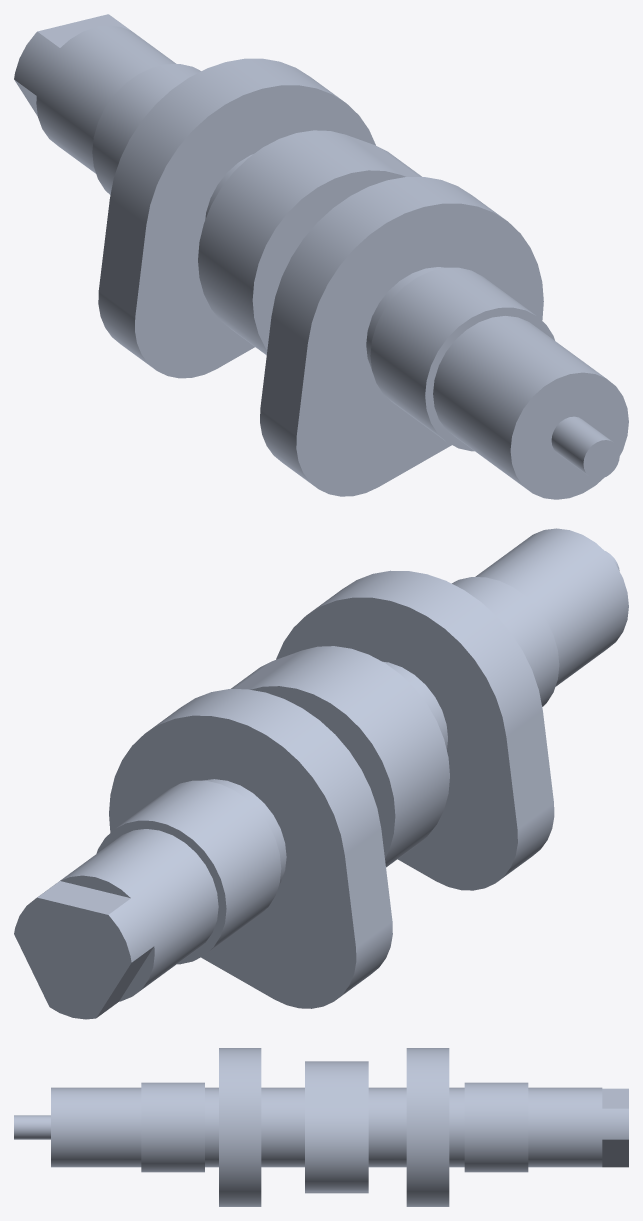
The model's file is Camshaft.glb.
3 renders of one model, top to bottom at view 1: azimuth 30°, elevation 25°; view 2: azimuth 150°, elevation 25°; view 3: azimuth 270°, elevation 25°, orthographic. The views are drawn at different scales.
Visible parts, largest first — view 1: Camshaft; view 2: Camshaft; view 3: Camshaft.
Boxes of the visible parts, bbox=[...] form: Camshaft: bbox=[14, 14, 628, 499]; Camshaft: bbox=[14, 528, 628, 1019]; Camshaft: bbox=[14, 1048, 628, 1206].
Bounding box in the file's own units: 0.0313 × 0.0329 × 0.116.
